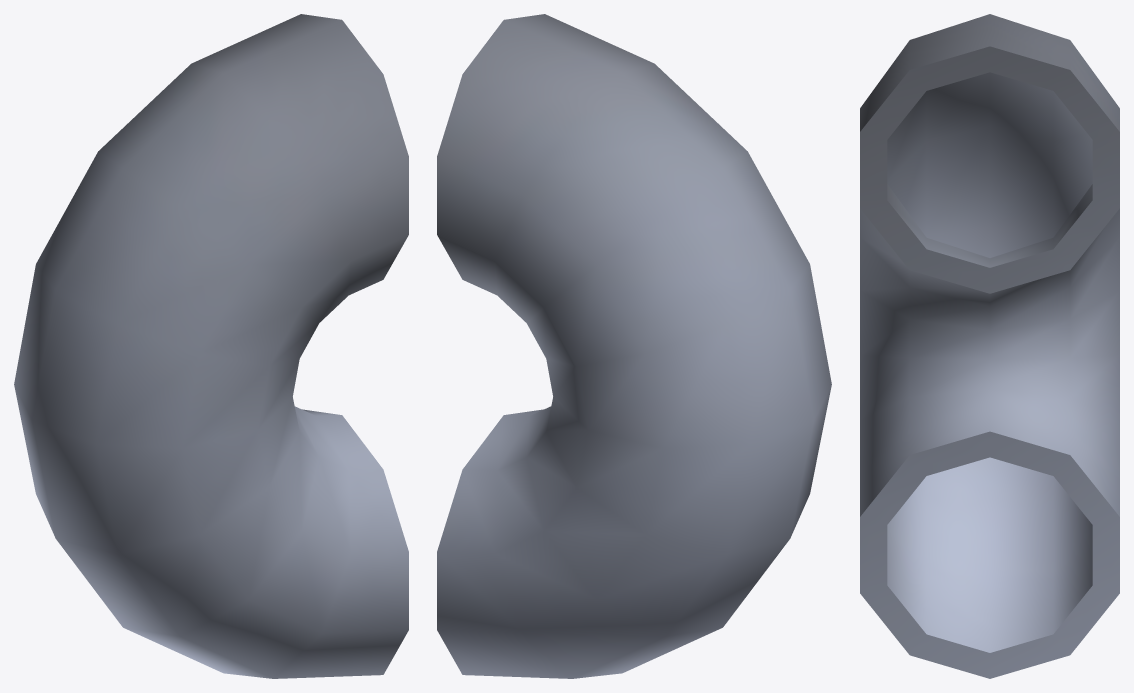
Rendered from POL0110019.fbx.
3 renders of one model, left to right at view 1: azimuth 30°, elevation 25°; view 2: azimuth 150°, elevation 25°; view 3: azimuth 270°, elevation 25°, orthographic. The views are drawn at different scales.
Parts seen in each view (by area): view 1: smPOL0110019; view 2: smPOL0110019; view 3: smPOL0110019.
Part boxes in pixels (x1,y1,x2,y2): smPOL0110019: (14,14,408,678); smPOL0110019: (437,14,831,678); smPOL0110019: (860,14,1119,678).
Bounding box in the file's own units: 116 × 233 × 86.56.
1 material, 1 textured.
